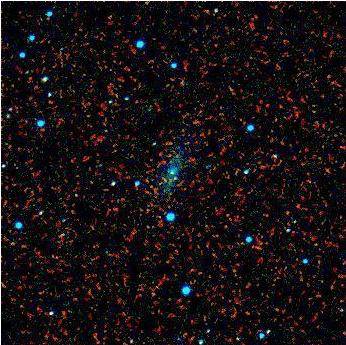star: (162, 161, 192, 191)
